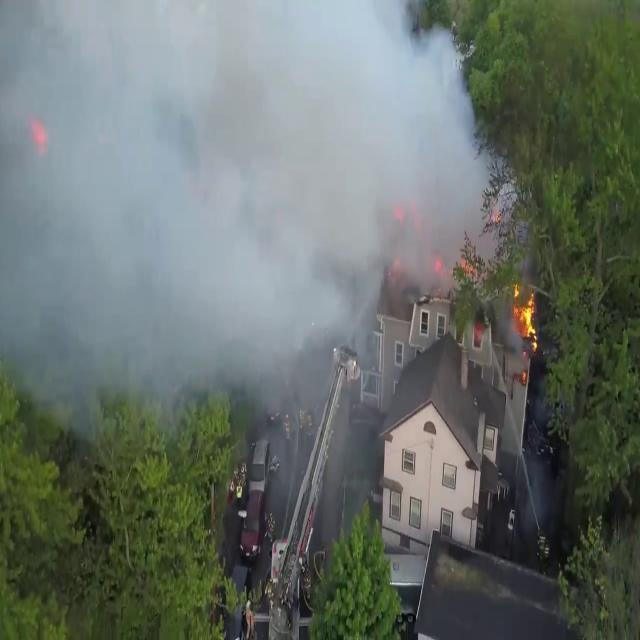Fire: (513, 283, 539, 354)
Smoke: (1, 0, 489, 406)
